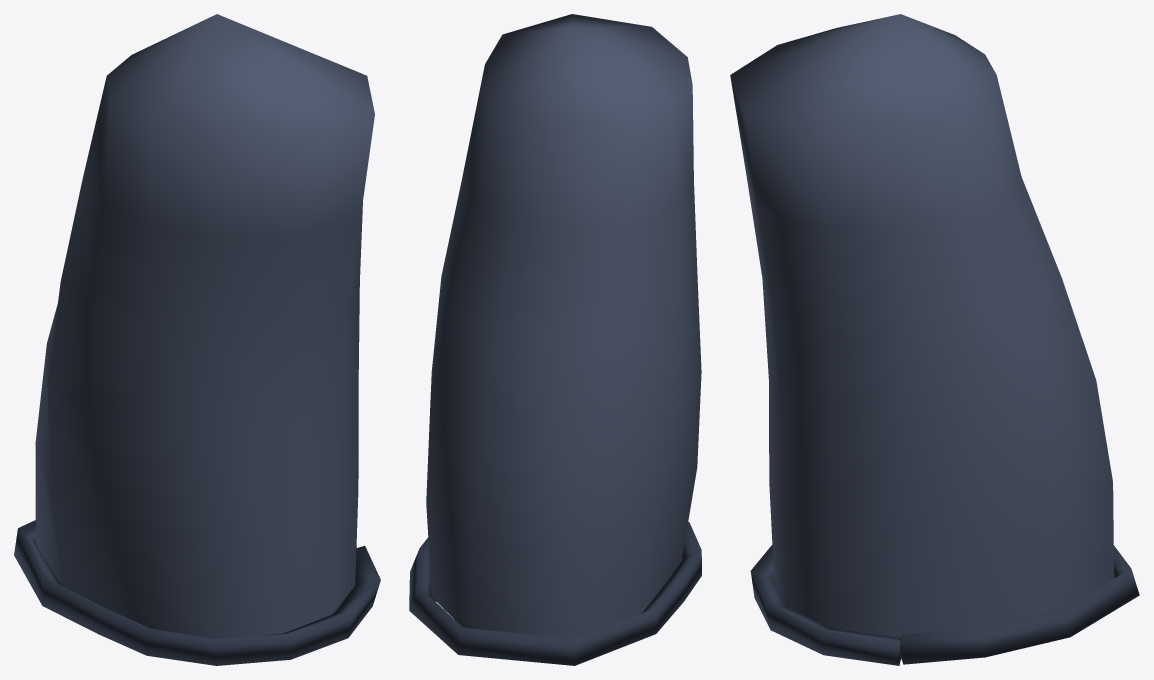
Rendered from lead_armor_boot.L.glb.
3 views of the same model, side by side, from view 1: azimuth 30°, elevation 25°; view 2: azimuth 150°, elevation 25°; view 3: azimuth 270°, elevation 25° (orthographic). The views are drawn at different scales.
Visible parts, largest first — view 1: lead_armor_boot.L; view 2: lead_armor_boot.L; view 3: lead_armor_boot.L.
Part boxes in pixels (x1,y1,x2,y2): lead_armor_boot.L: (14, 14, 380, 665); lead_armor_boot.L: (409, 14, 701, 665); lead_armor_boot.L: (730, 14, 1139, 665).
Bounding box in the file's own units: 0.1461 × 0.2958 × 0.1877.
